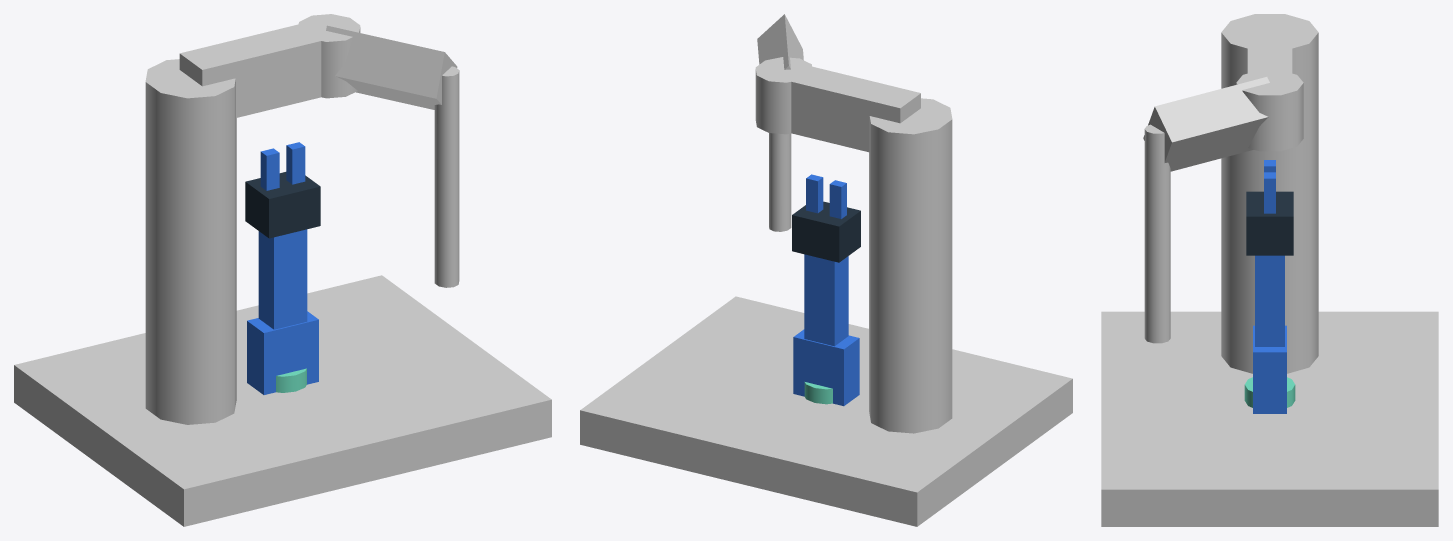
3 views of the same model, side by side, from view 1: azimuth 30°, elevation 25°; view 2: azimuth 150°, elevation 25°; view 3: azimuth 270°, elevation 25° (orthographic). The views are drawn at different scales.
Visible parts, largest first — view 1: base_frame_1, base_column_2, upper_arm_3, forearm_5, tool_axis_6, elbow, shoulder, inspectionHead, shaft_4, gripperRight, gripperLeft; view 2: base_frame_1, base_column_2, upper_arm_3, elbow, shoulder, inspectionHead, shaft_4, tool_axis_6, forearm_5, gripperLeft, gripperRight; view 3: base_frame_1, base_column_2, forearm_5, tool_axis_6, shaft_4, upper_arm_3, inspectionHead, elbow, shoulder, gripperRight, visualJoint.
Part boxes in pixels (left/top/right/bottom): base_frame_1: left=14, top=275, right=551, bottom=526; base_column_2: left=145, top=59, right=236, bottom=424; upper_arm_3: left=179, top=20, right=339, bottom=117; forearm_5: left=326, top=25, right=457, bottom=109; tool_axis_6: left=434, top=66, right=459, bottom=287; elbow: left=258, top=229, right=307, bottom=329; shoulder: left=247, top=311, right=318, bottom=394; inspectionHead: left=245, top=172, right=320, bottom=238; shaft_4: left=298, top=14, right=360, bottom=98; gripperRight: left=286, top=142, right=305, bottom=184; gripperLeft: left=260, top=148, right=279, bottom=190; base_frame_1: left=580, top=296, right=1072, bottom=526; base_column_2: left=869, top=98, right=952, bottom=433; upper_arm_3: left=774, top=62, right=920, bottom=152; elbow: left=804, top=254, right=848, bottom=346; shoulder: left=793, top=329, right=859, bottom=406; inspectionHead: left=792, top=201, right=860, bottom=262; shaft_4: left=755, top=57, right=811, bottom=134; tool_axis_6: left=769, top=133, right=791, bottom=231; forearm_5: left=757, top=14, right=803, bottom=69; gripperLeft: left=829, top=180, right=846, bottom=218; gripperRight: left=806, top=174, right=823, bottom=213; base_frame_1: left=1101, top=311, right=1438, bottom=526; base_column_2: left=1221, top=14, right=1318, bottom=373; forearm_5: left=1143, top=77, right=1269, bottom=171; tool_axis_6: left=1144, top=124, right=1170, bottom=343; shaft_4: left=1236, top=73, right=1303, bottom=151; upper_arm_3: left=1247, top=16, right=1292, bottom=82; inspectionHead: left=1246, top=191, right=1293, bottom=255; elbow: left=1255, top=255, right=1284, bottom=346; shoulder: left=1253, top=325, right=1286, bottom=413; gripperRight: left=1264, top=172, right=1275, bottom=213; visualJoint: left=1244, top=377, right=1295, bottom=407.
Bounding box in the file's own units: 2.5 × 2.85 × 2.
